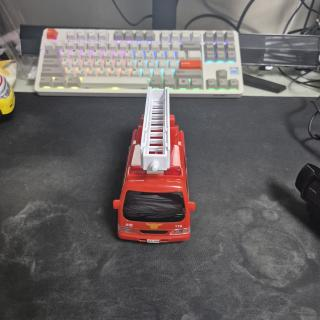Fire_truck: (113, 87, 195, 243)
